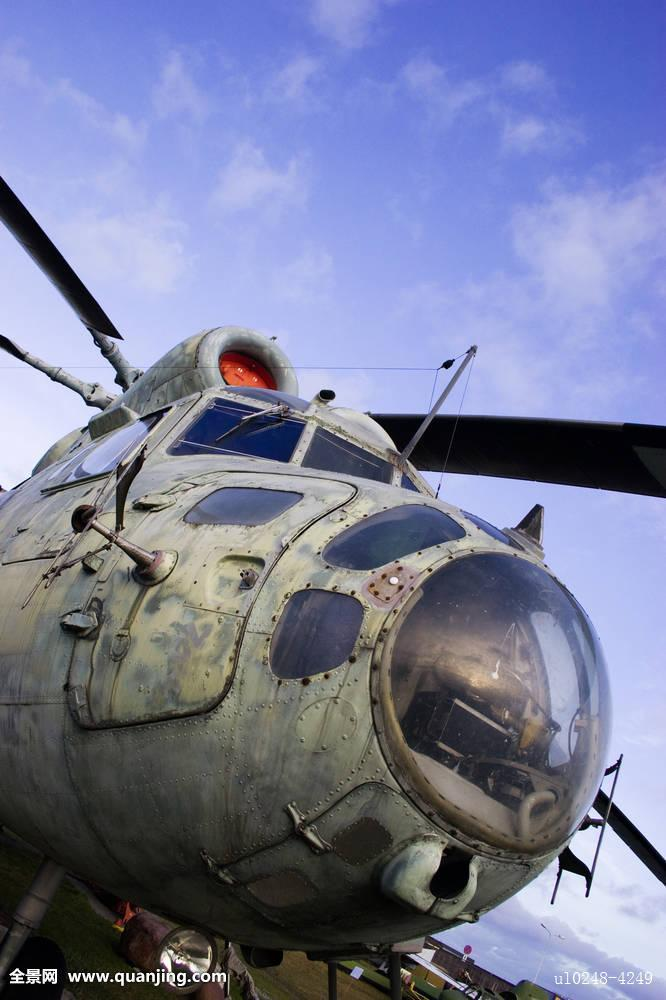airplane: (1, 204, 626, 978)
